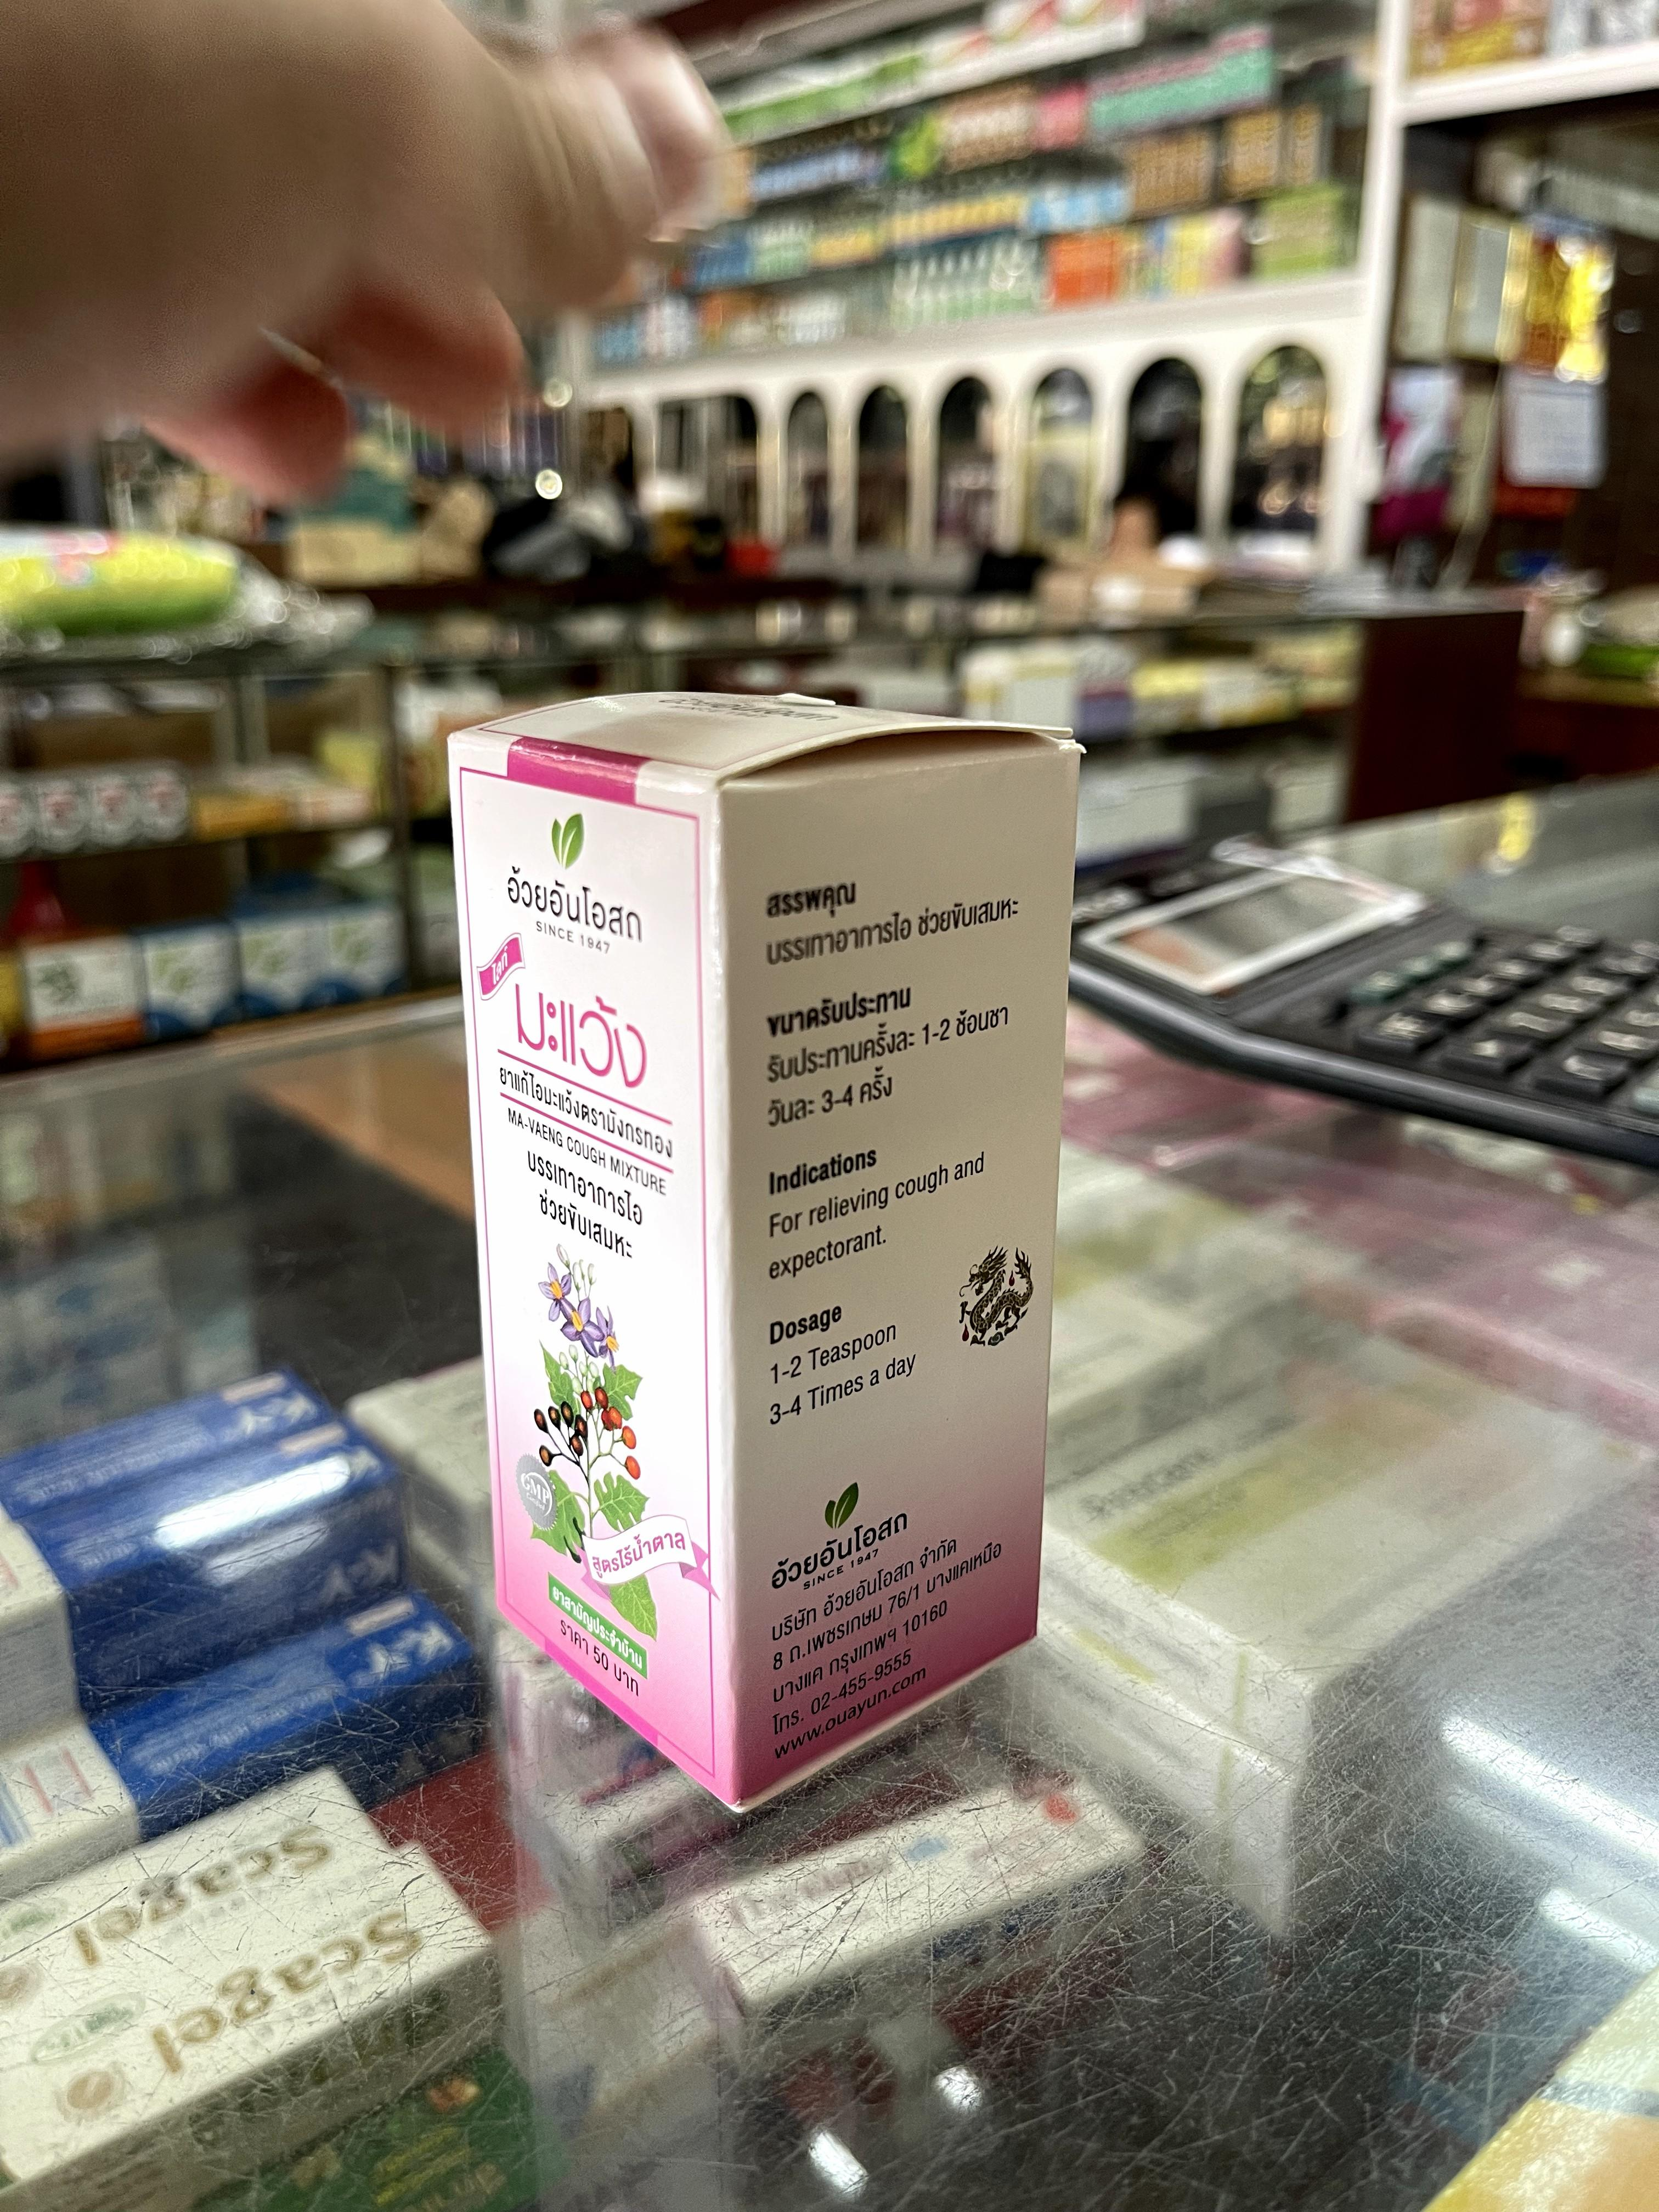Ma-Vaeng_Light: (464, 693, 1075, 1803)
